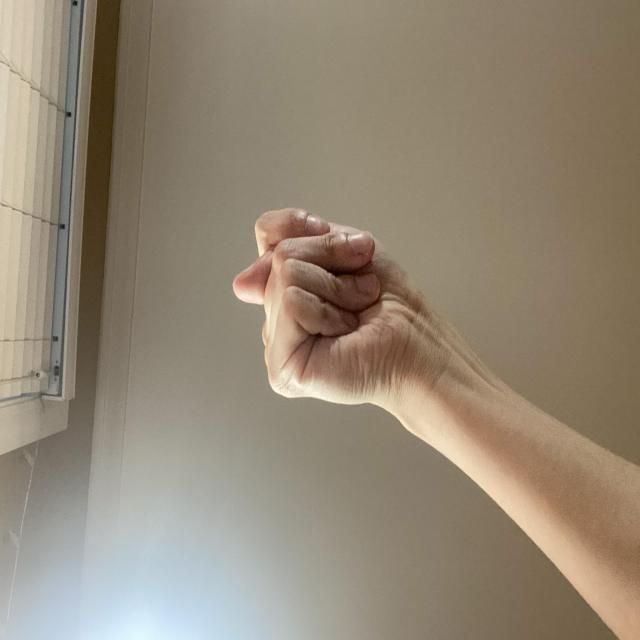T: (168, 300, 328, 591)
